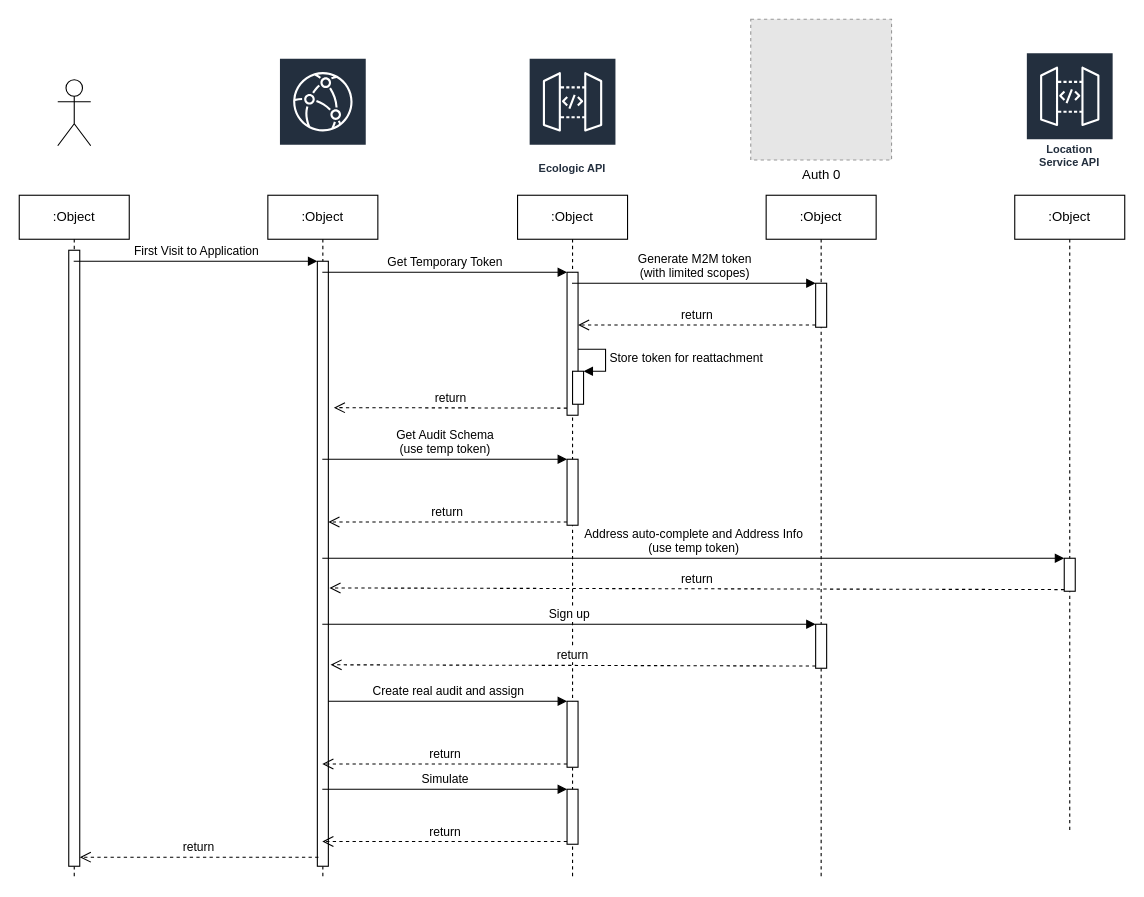
The diagram is 1144 pixels wide and 897 high, and some of its shapes have lost their labels. Grey dashed boxes stand in for pictures. The shapes that lost their labels are listed below. From the top down, each one's centre as x and y in pixels, then its label:
pixel 74 112: Actor
pixel 322 118: Ecologic UI
